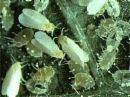whitefly: (56, 32, 89, 68), (18, 8, 59, 36), (31, 31, 66, 62), (2, 54, 27, 96)
